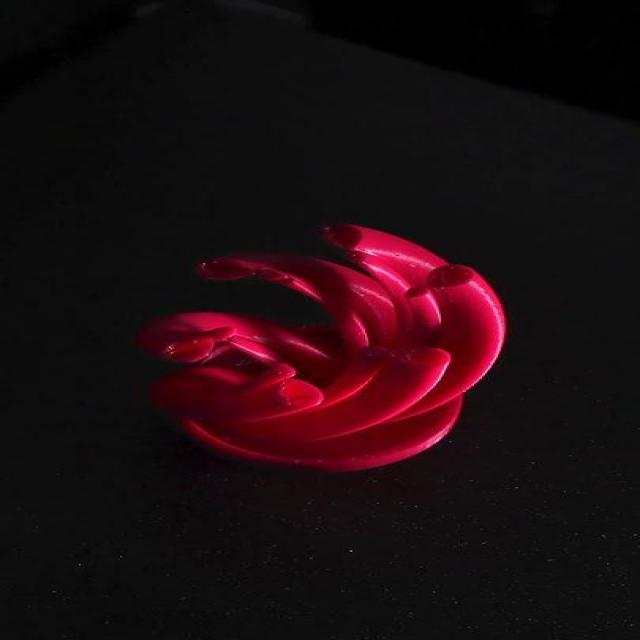Without deffect: (146, 219, 507, 472)
